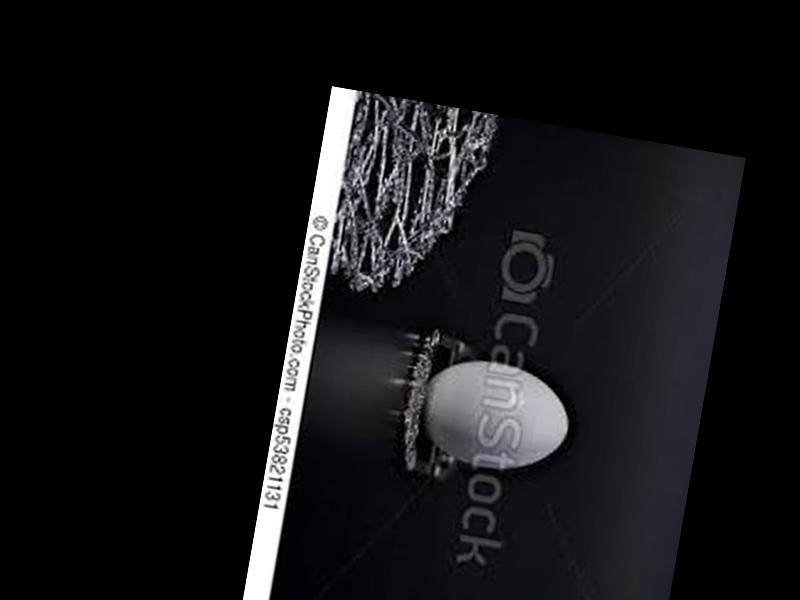Eggs: (414, 350, 576, 480)
